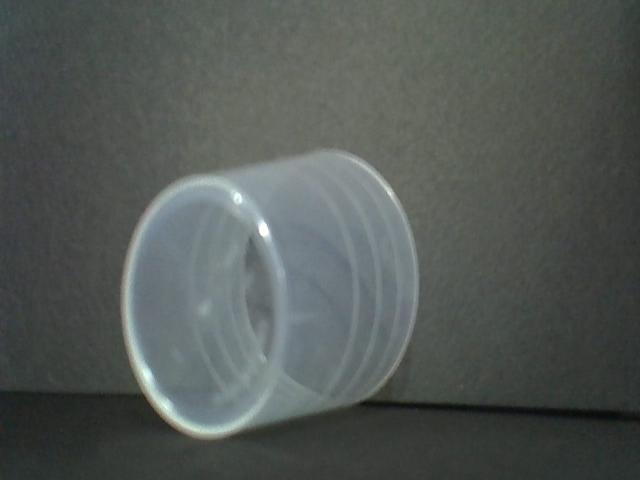cup: (114, 147, 425, 444)
